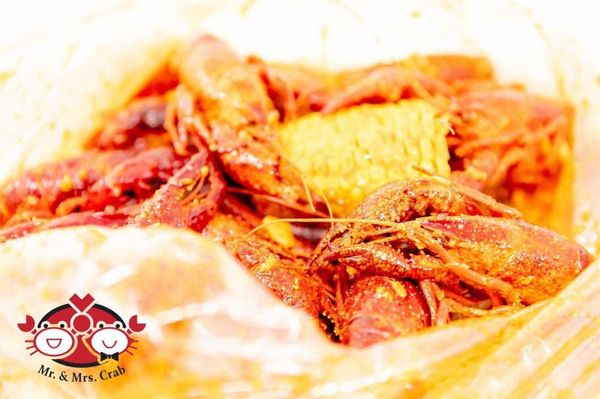sandwich: (2, 22, 595, 373)
